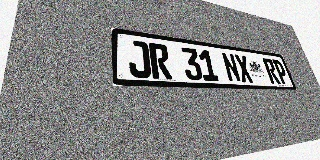1: (197, 49, 219, 81)
3: (181, 47, 203, 81)
J: (127, 40, 152, 78)
N: (221, 52, 242, 82)
P: (272, 59, 290, 84)
R: (148, 43, 172, 79), (262, 58, 281, 84)
X: (234, 54, 254, 83)
